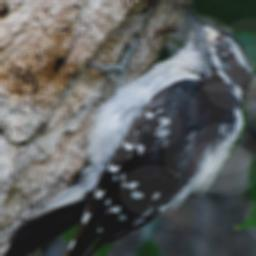Woodpecker: (0, 4, 256, 256)
